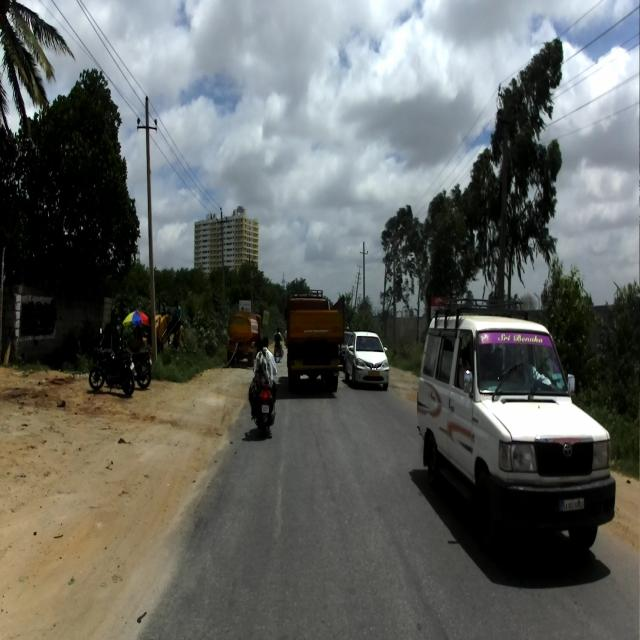car: (416, 299, 616, 556), (344, 329, 390, 391)
motorcycle: (89, 327, 137, 397)
scooter: (250, 356, 280, 438)
truck: (283, 287, 345, 393)
